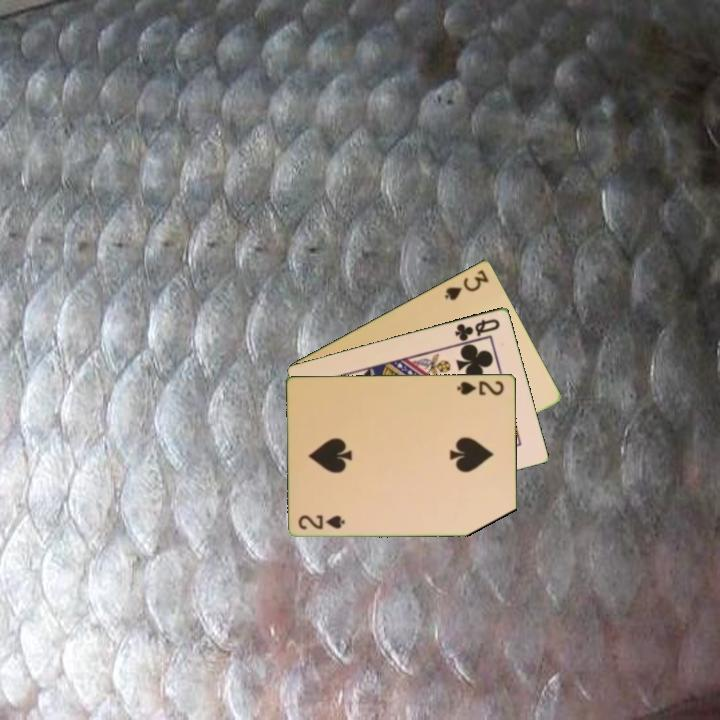2s: (454, 377, 507, 398), (295, 511, 348, 532)
3s: (441, 266, 492, 303)
Qc: (452, 315, 503, 344)
